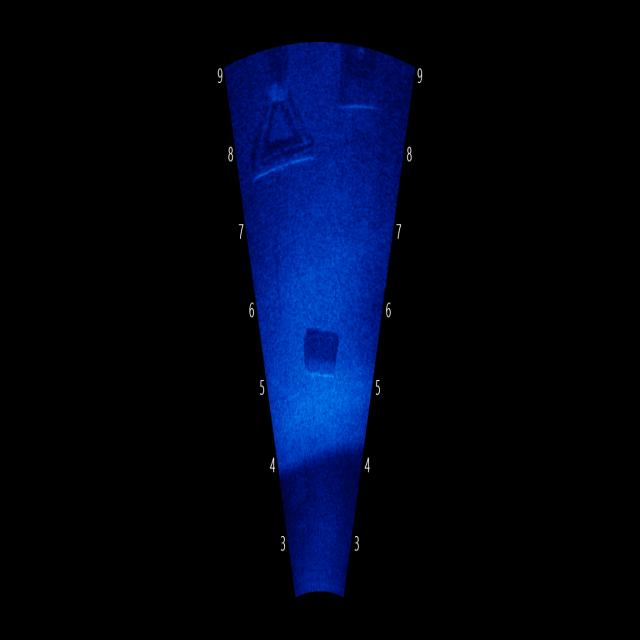triangle: (241, 66, 324, 188)
